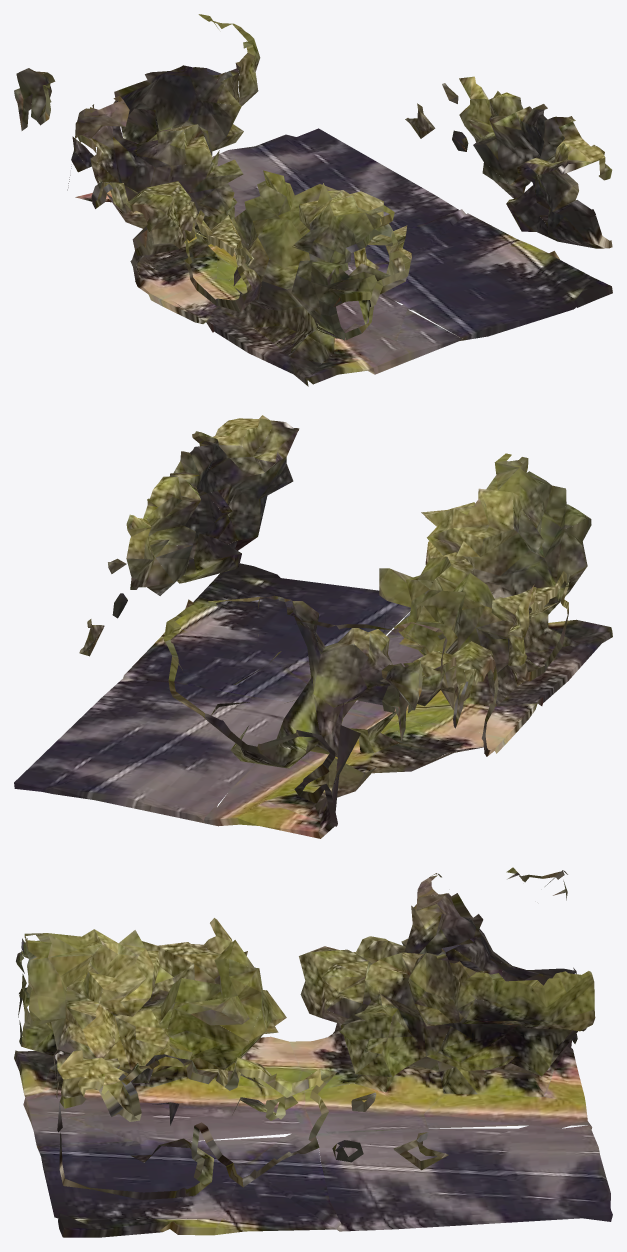
3 views of the same model, one above another, from view 1: azimuth 30°, elevation 25°; view 2: azimuth 150°, elevation 25°; view 3: azimuth 270°, elevation 25° (orthographic). The views are drawn at different scales.
Visible parts, largest first — view 1: Mesh_0; view 2: Mesh_0; view 3: Mesh_0.
Part boxes in pixels (box(x1,y1,x2,y2)): Mesh_0: box(14, 14, 612, 386); Mesh_0: box(14, 415, 612, 838); Mesh_0: box(14, 867, 612, 1237).
Bounding box in the file's own units: 33.3 × 13.74 × 41.29.
Materials: 2 (2 with a texture image).
